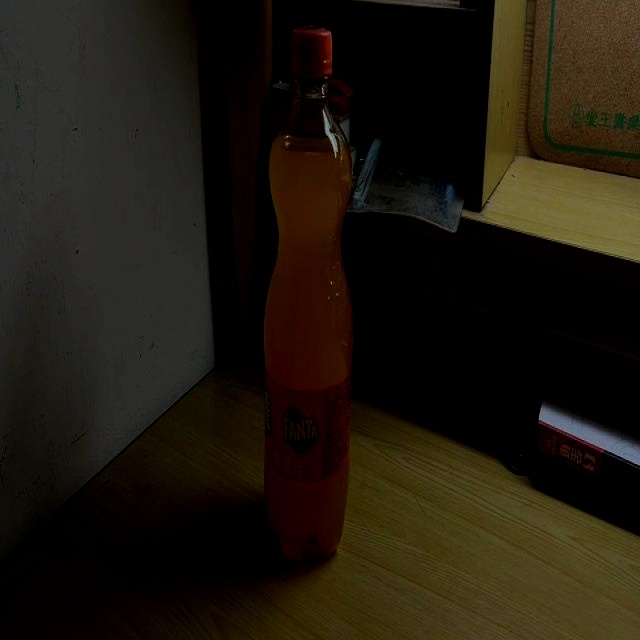Fanta: (262, 31, 356, 554)
